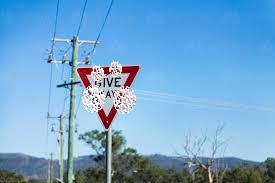giveway: (74, 64, 142, 129), (77, 84, 135, 124), (74, 63, 142, 87)
